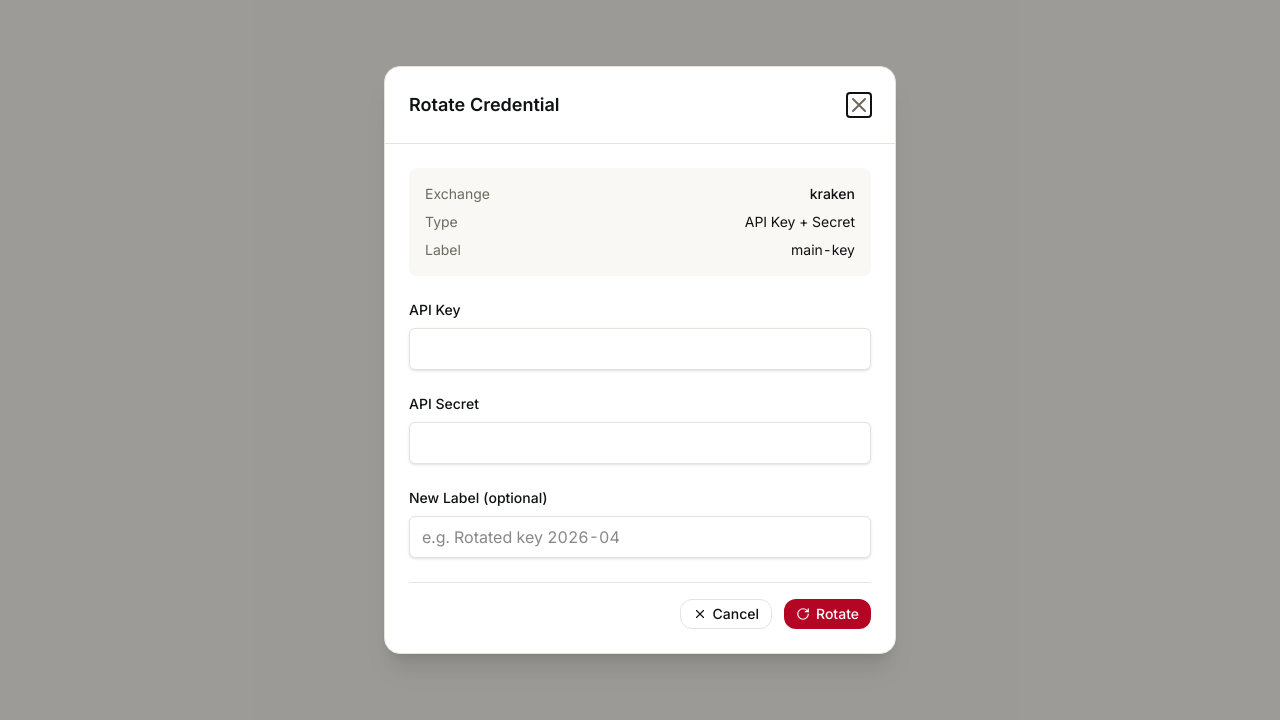
Test: RotateDialog › shows validation errors when rotating with empty fields
Click the button "Rotate" at (828, 614), box [784,599,871,629]
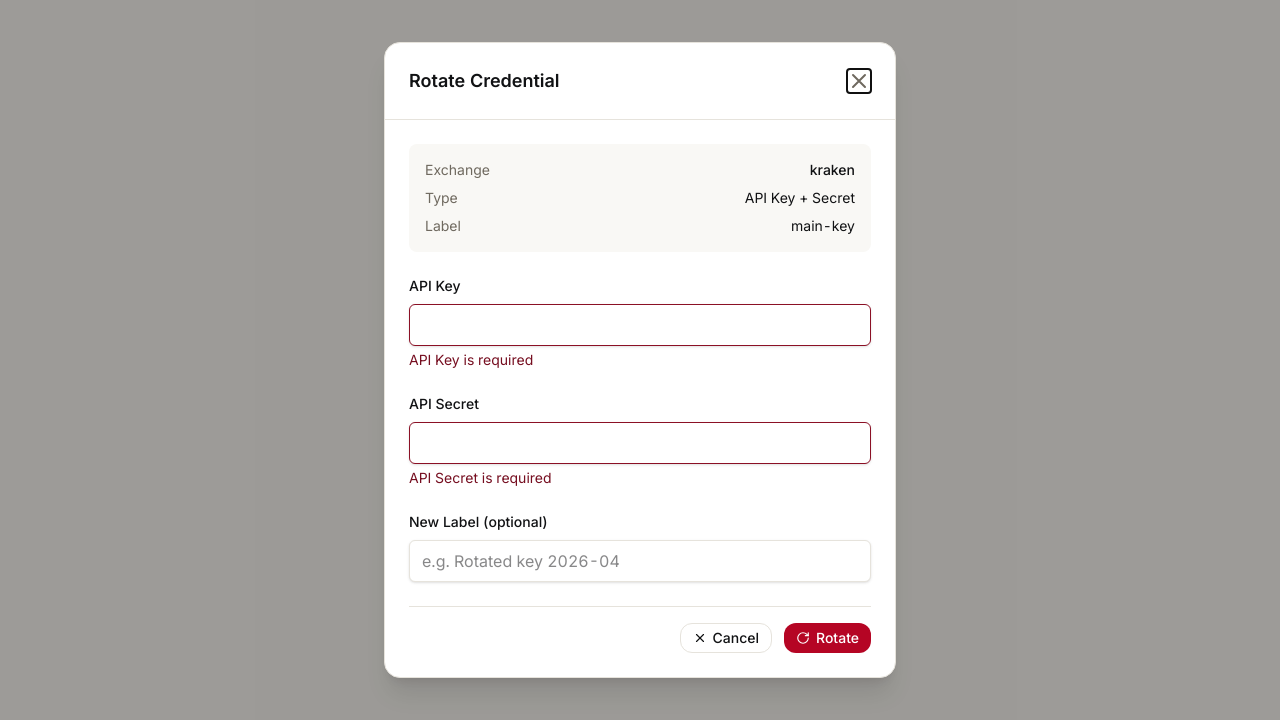
Expected: the text "API Key is required" is shown, [409,351,533,368]
Expected: the text "API Secret is required" is shown, [409,469,552,486]
